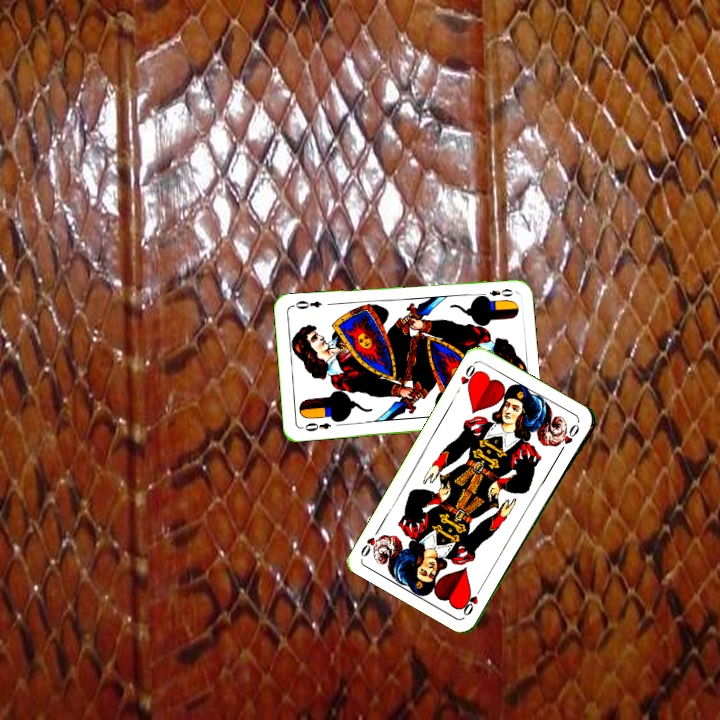EO: (476, 285, 516, 301), (297, 418, 333, 434)
HO: (452, 359, 482, 396), (459, 582, 486, 619)
